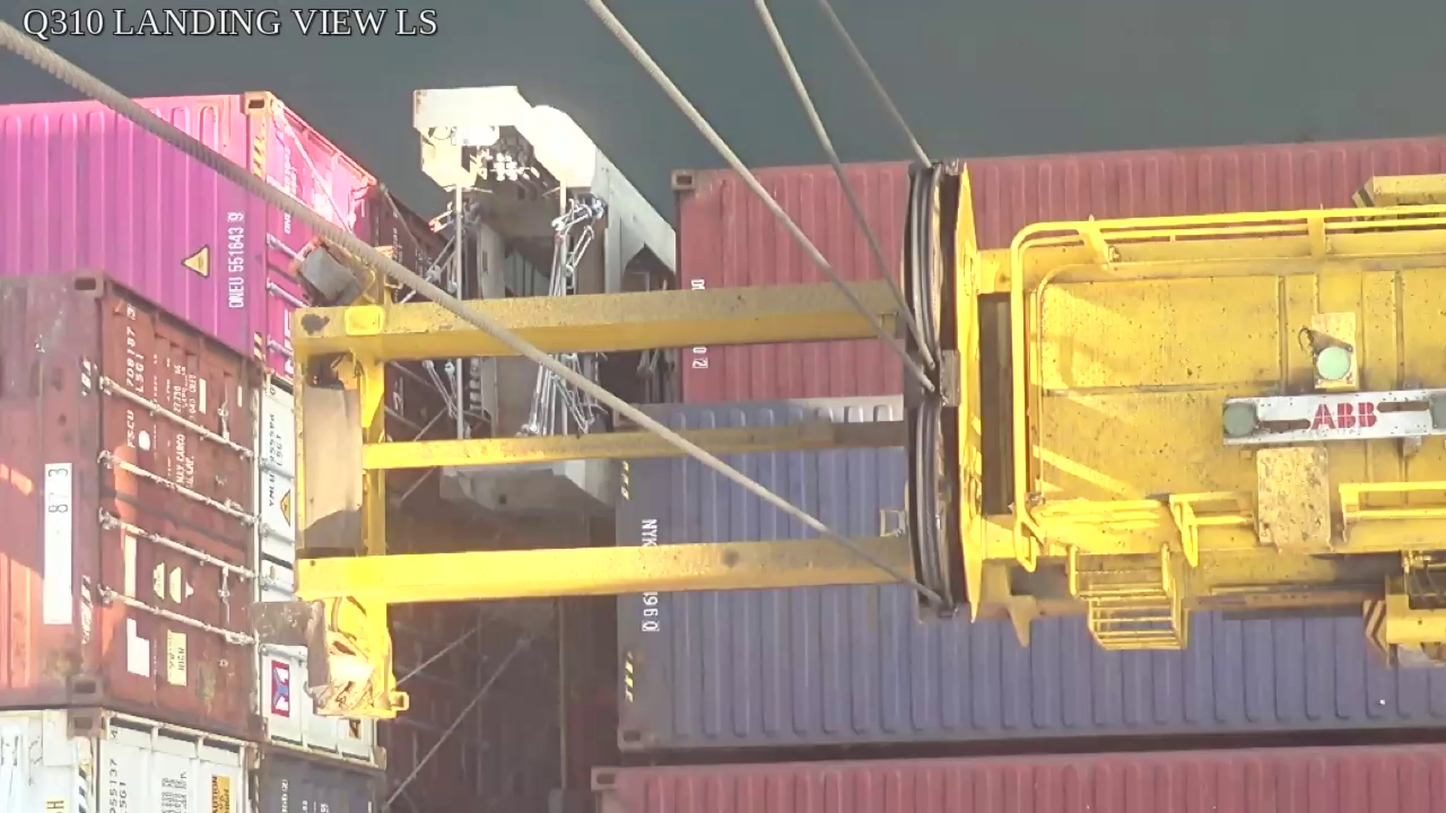aa: (899, 163, 987, 626)
